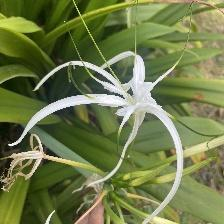spider lily: (48, 65, 178, 144)
